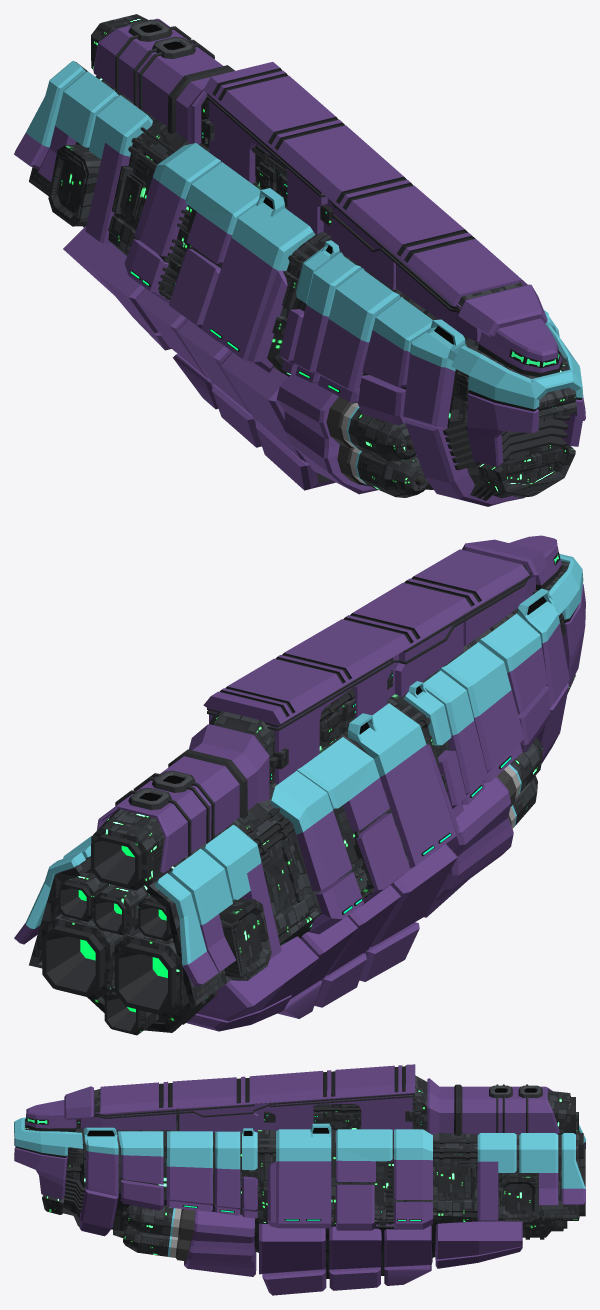
Rendered from Nave1.glb.
3 renders of one model, top to bottom at view 1: azimuth 30°, elevation 25°; view 2: azimuth 150°, elevation 25°; view 3: azimuth 270°, elevation 25°, orthographic. The views are drawn at different scales.
Visible parts, largest first — view 1: SM_Ship_Massive_Transport_01; view 2: SM_Ship_Massive_Transport_01; view 3: SM_Ship_Massive_Transport_01.
Boxes of the visible parts, x1,y1,x2,y2 form: SM_Ship_Massive_Transport_01: (14, 14, 585, 506); SM_Ship_Massive_Transport_01: (14, 535, 585, 1035); SM_Ship_Massive_Transport_01: (14, 1064, 585, 1295).
Size of the model in its own units: 83.62 by 122 by 306.
Materials: 1 (1 with a texture image).
